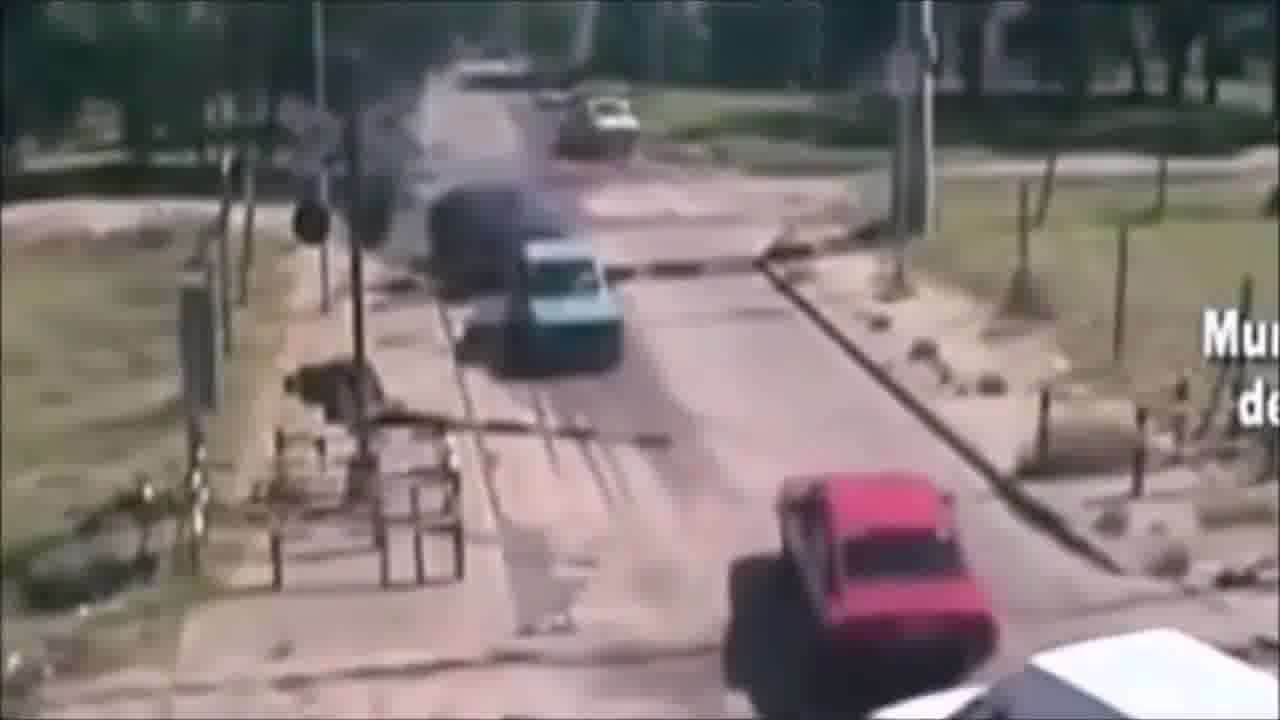crossing railway track: (742, 414, 1041, 720)
